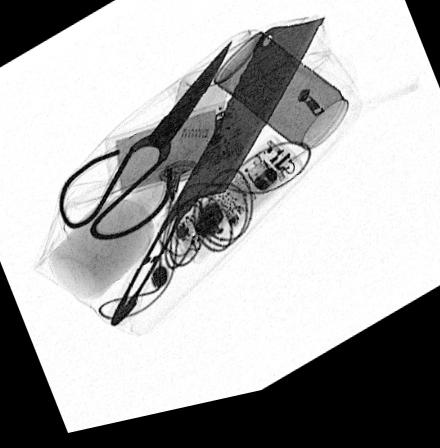Knife: (107, 27, 328, 330)
Powerbank: (104, 109, 242, 204)
Scissors: (57, 44, 234, 246)
Sprayer: (145, 77, 231, 209)
